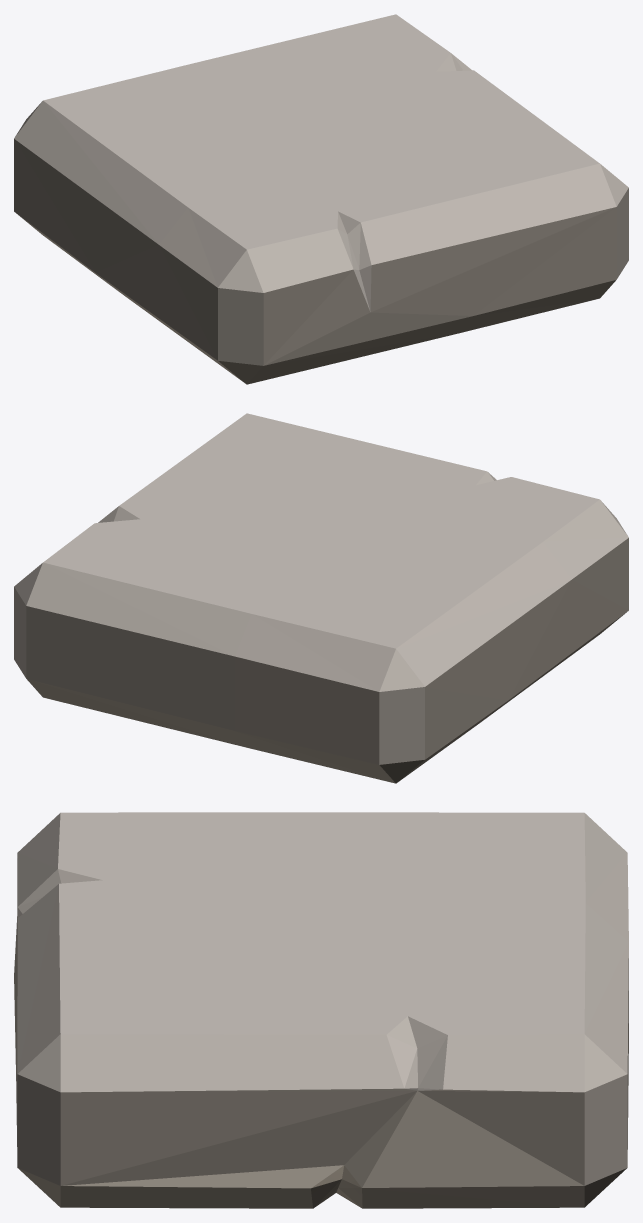
File: m_kub_stone_floorPlate.FBX
3 renders of one model, top to bottom at view 1: azimuth 30°, elevation 25°; view 2: azimuth 150°, elevation 25°; view 3: azimuth 270°, elevation 25°, orthographic. The views are drawn at different scales.
Parts seen in each view (by area): view 1: m_kub_stone_floorPlate; view 2: m_kub_stone_floorPlate; view 3: m_kub_stone_floorPlate.
Part boxes in pixels (x1=…): m_kub_stone_floorPlate: x1=14, y1=14, x2=628, y2=384; m_kub_stone_floorPlate: x1=14, y1=413, x2=628, y2=783; m_kub_stone_floorPlate: x1=14, y1=812, x2=628, y2=1208.
Size of the model in its own units: 2.18 by 0.6825 by 2.19.
